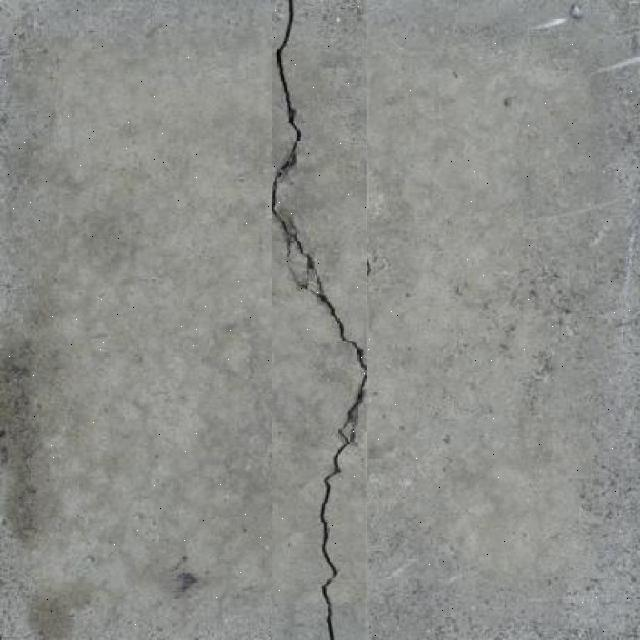crack: (268, 0, 370, 639)
